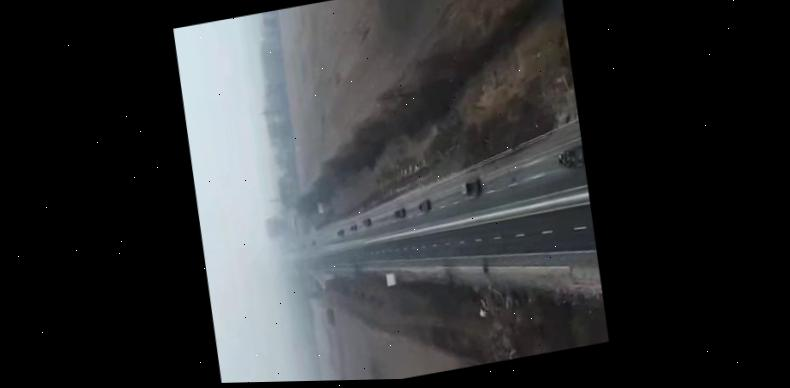rszo: (458, 179, 482, 200)
tank: (555, 144, 586, 170), (389, 208, 406, 222), (417, 199, 431, 214), (335, 227, 350, 241), (360, 217, 374, 231), (348, 223, 360, 235)
